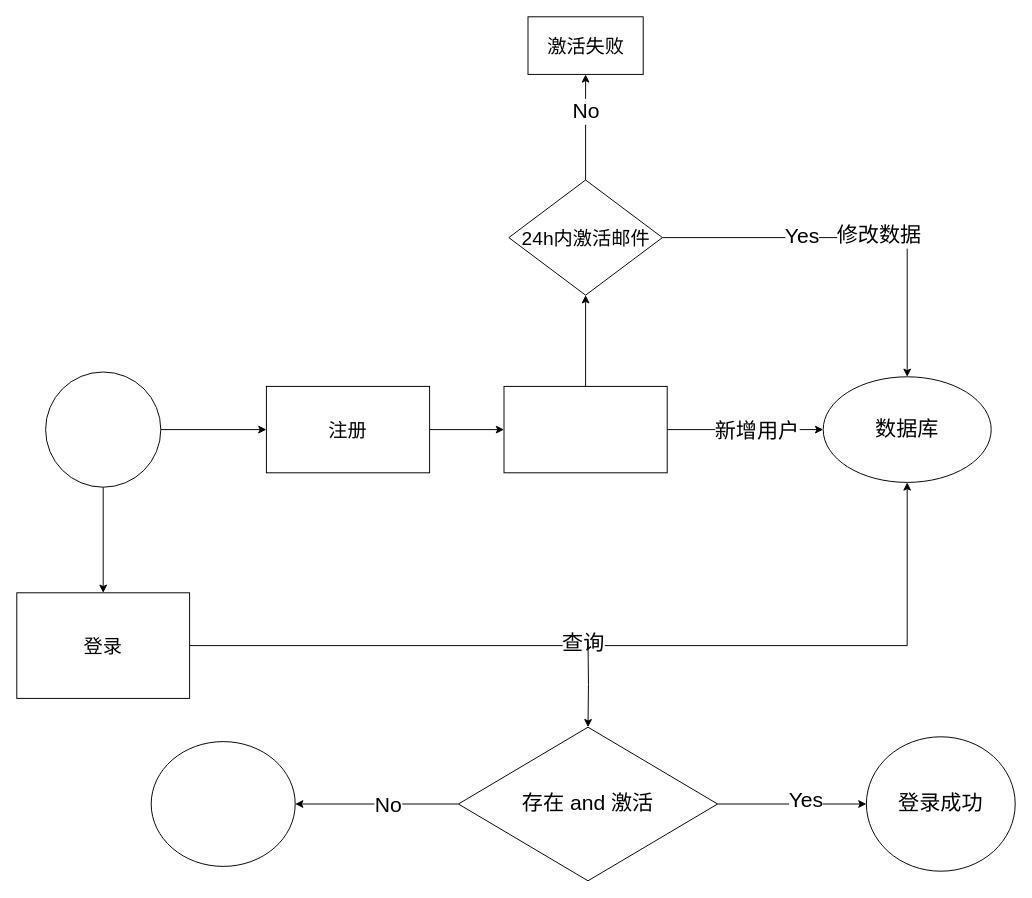
This 1032x898 diagram has some shape labels left out. Each missing label, with the box of its shape:
Clinet: (45, 371, 161, 487)
发送邮件: (503, 385, 667, 473)
失败: (150, 741, 295, 866)
